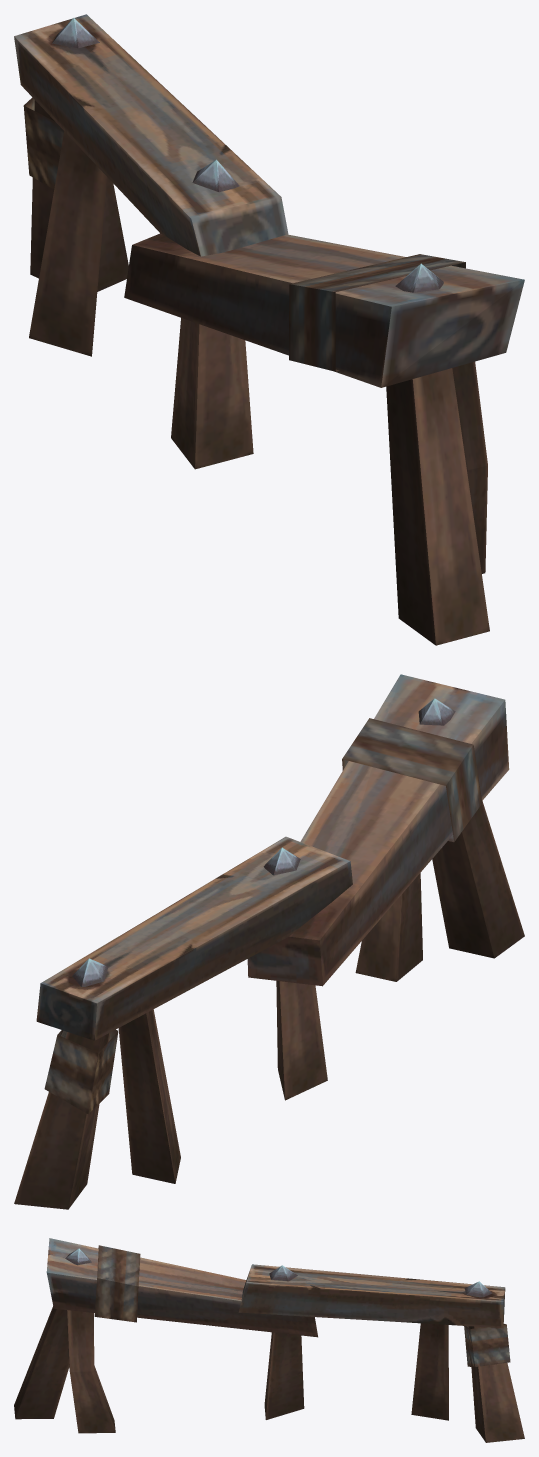
Rendered from mine_railing08.fbx.
The picture shows the model from 3 angles, top to bottom: view 1: azimuth 30°, elevation 25°; view 2: azimuth 150°, elevation 25°; view 3: azimuth 270°, elevation 25°; orthographic projection. The views are drawn at different scales.
Parts seen in each view (by area): view 1: obj0.143; view 2: obj0.143; view 3: obj0.143.
Part boxes in pixels (box(x1,y1,x2,y2)): obj0.143: box(14, 14, 524, 645); obj0.143: box(14, 674, 524, 1209); obj0.143: box(14, 1238, 524, 1442).
Bounding box in the file's own units: 0.9811 × 1.68 × 4.61.
